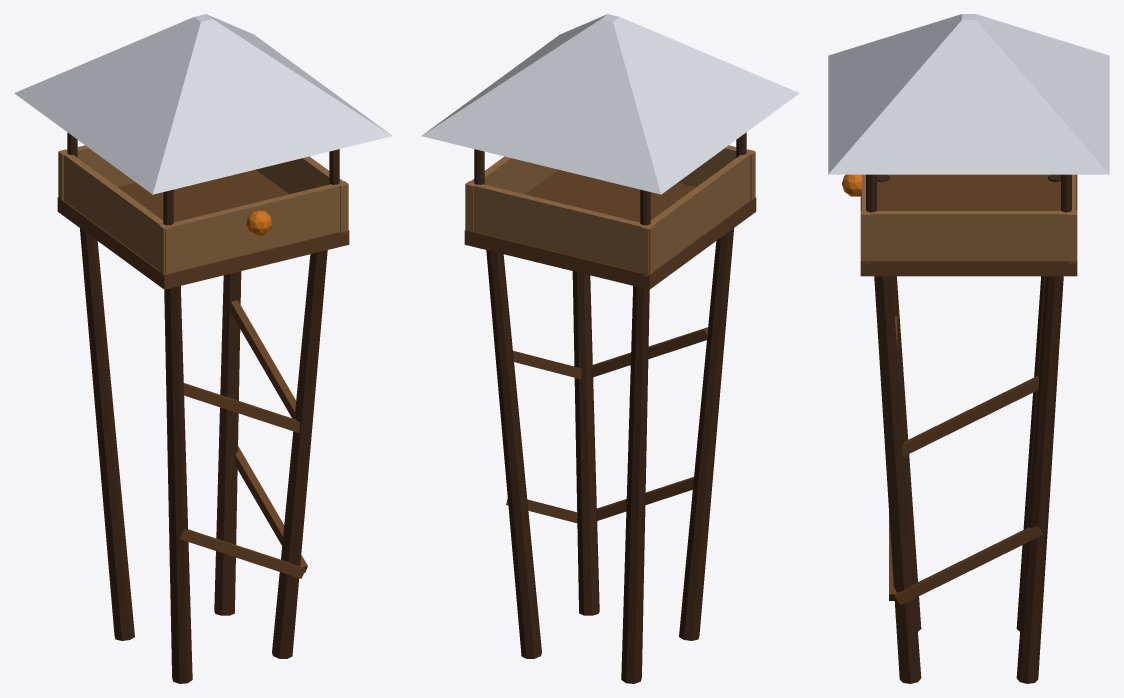
The model's file is SM_GZ_watchtower_frost.fbx.
The picture shows the model from 3 angles, left to right: view 1: azimuth 30°, elevation 25°; view 2: azimuth 150°, elevation 25°; view 3: azimuth 270°, elevation 25°; orthographic projection.
Parts seen in each view (by area): view 1: SM_GZ_watchtower_frost; view 2: SM_GZ_watchtower_frost; view 3: SM_GZ_watchtower_frost.
Boxes of the visible parts, x1,y1,x2,y2 form: SM_GZ_watchtower_frost: (14,14,392,683); SM_GZ_watchtower_frost: (421,14,799,683); SM_GZ_watchtower_frost: (828,14,1109,683).
Bounding box in the file's own units: 520 × 1300 × 520.
